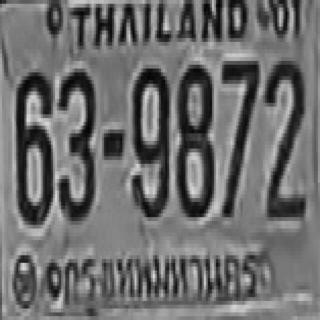N02: (264, 55, 303, 215)
N03: (57, 65, 94, 217)
N06: (14, 68, 51, 221)
N07: (220, 57, 257, 213)
N08: (175, 61, 212, 214)
N09: (130, 65, 167, 213)
P04: (63, 245, 260, 312)
